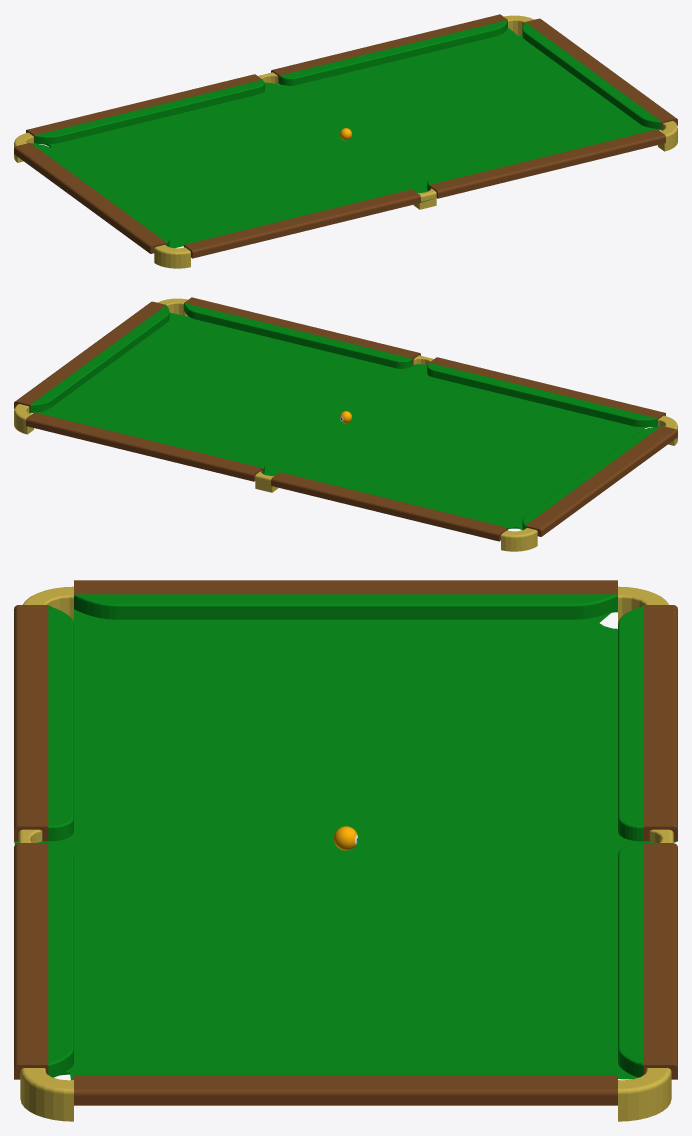
Rendered from pool_table.fbx.
3 renders of one model, top to bottom at view 1: azimuth 30°, elevation 25°; view 2: azimuth 150°, elevation 25°; view 3: azimuth 270°, elevation 25°, orthographic. The views are drawn at different scales.
Visible parts, largest first — view 1: Plane.001, Cube, Cube.002, Cube.009, Cube.004, Cube.005, Cube.012, Cube.011, Cube.006, Cube.007, Cube.001, Cube.003 (+3 smaller); view 2: Plane.001, Cube.006, Cube.007, Cube.009, Cube.003, Cube.001, Cube.012, Cube.011, Cube, Cube.002, Cube.005, Cube.004 (+3 smaller); view 3: Plane.001, Cube.011, Cube.010, Cube.009, Cube.002, Cube.007, Cube.006, Cube, Cube.003, Cube.004, Cube.001, Cube.005 (+5 smaller).
Boxes of the visible parts, x1,y1,x2,y2 form: Plane.001: [34, 27, 662, 248]; Cube: [429, 129, 665, 198]; Cube.002: [184, 189, 420, 258]; Cube.009: [14, 143, 166, 253]; Cube.004: [34, 80, 264, 144]; Cube.005: [279, 20, 507, 85]; Cube.012: [522, 22, 661, 129]; Cube.011: [525, 18, 677, 129]; Cube.006: [271, 14, 507, 82]; Cube.007: [26, 74, 262, 142]; Cube.001: [427, 128, 656, 191]; Cube.003: [184, 186, 410, 244]; Plane.001: [29, 312, 657, 530]; Cube.006: [26, 412, 262, 481]; Cube.007: [271, 472, 507, 541]; Cube.009: [525, 426, 677, 536]; Cube.003: [427, 363, 657, 427]; Cube.001: [184, 303, 412, 368]; Cube.012: [30, 305, 169, 412]; Cube.011: [14, 301, 166, 412]; Cube: [184, 297, 420, 365]; Cube.002: [429, 357, 665, 425]; Cube.005: [35, 411, 264, 474]; Cube.004: [281, 469, 507, 527]; Plane.001: [14, 594, 677, 1103]; Cube.011: [74, 1075, 617, 1105]; Cube.010: [74, 594, 617, 619]; Cube.009: [74, 580, 617, 595]; Cube.002: [14, 605, 48, 841]; Cube.007: [643, 605, 677, 841]; Cube.006: [643, 843, 677, 1079]; Cube: [14, 843, 48, 1079]; Cube.003: [48, 605, 73, 841]; Cube.004: [618, 605, 643, 841]; Cube.001: [48, 843, 73, 1077]; Cube.005: [618, 843, 643, 1077].
Size of the model in its own units: 283 by 10.71 by 155.
